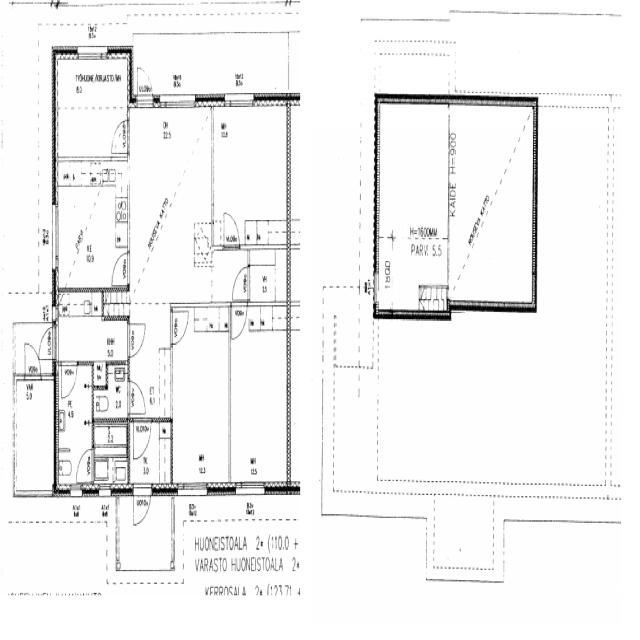door: (131, 415, 153, 461), (132, 484, 152, 528), (170, 304, 190, 347), (59, 359, 79, 399), (126, 319, 147, 357), (222, 208, 241, 250), (110, 248, 130, 286), (127, 377, 147, 415), (75, 443, 94, 483), (136, 63, 154, 105), (231, 264, 250, 302), (230, 301, 248, 339), (110, 117, 128, 155), (23, 339, 41, 377), (38, 325, 56, 360)
window: (50, 200, 61, 274), (158, 92, 197, 111), (175, 478, 209, 499), (233, 478, 267, 498), (223, 90, 256, 110), (67, 482, 84, 500), (96, 483, 114, 499), (372, 266, 379, 306), (50, 297, 58, 325)
zone: (449, 103, 535, 310), (128, 103, 212, 301), (379, 103, 450, 315), (170, 302, 230, 492), (230, 299, 290, 487), (216, 104, 290, 246), (56, 158, 128, 290), (55, 52, 128, 160), (13, 374, 57, 493), (56, 287, 128, 359), (56, 361, 93, 487), (128, 416, 172, 490), (92, 419, 128, 488), (248, 245, 289, 304), (94, 364, 128, 420)
